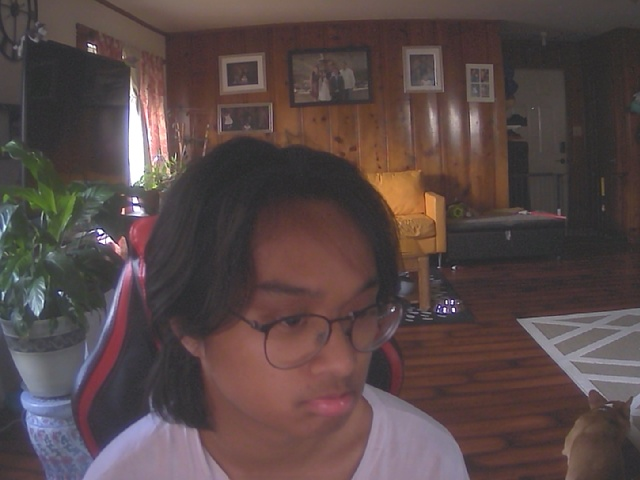sad: (165, 165, 412, 442)
